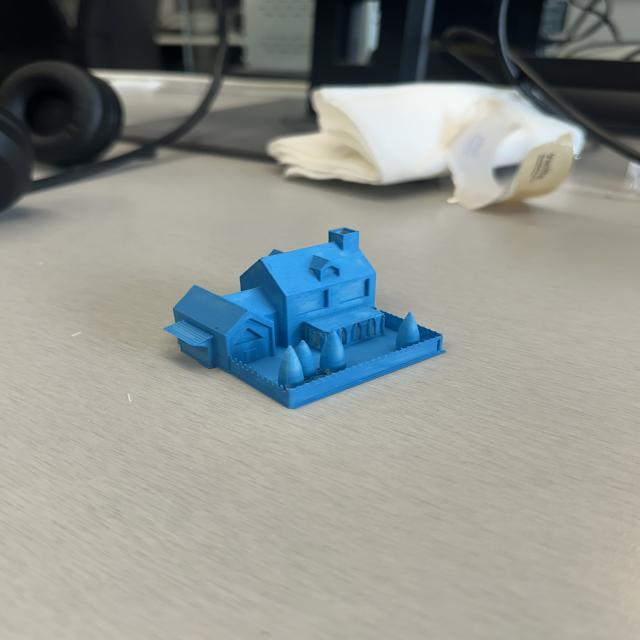house: (164, 225, 448, 411)
